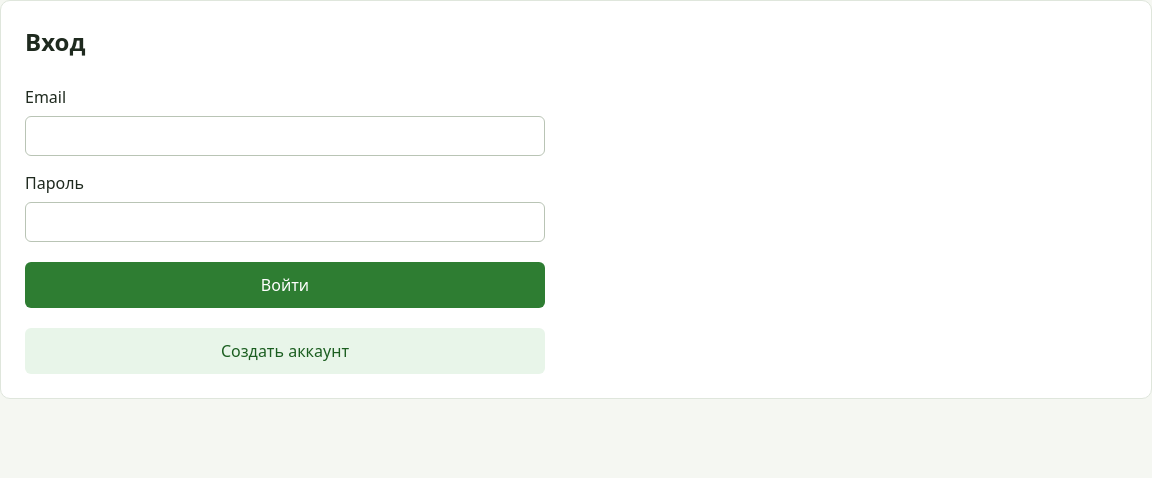
Test: 429 отображает сообщение сервера при входе
Type "test@example.test" into the field labelled "Email" at (285, 136), box [25,116,545,156]
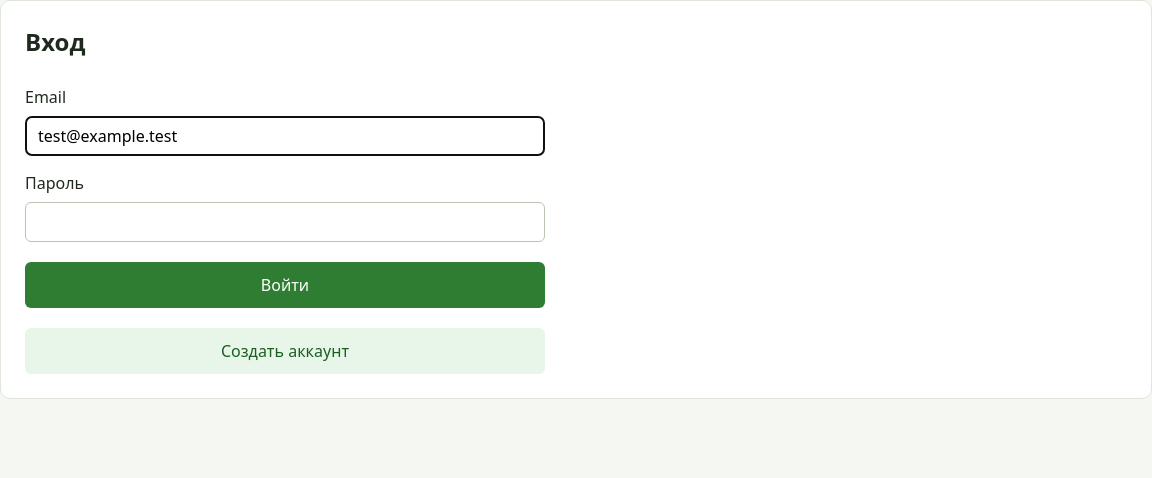
Type "Password123" into the password field labelled "Пароль" at (285, 222), box [25,202,545,242]
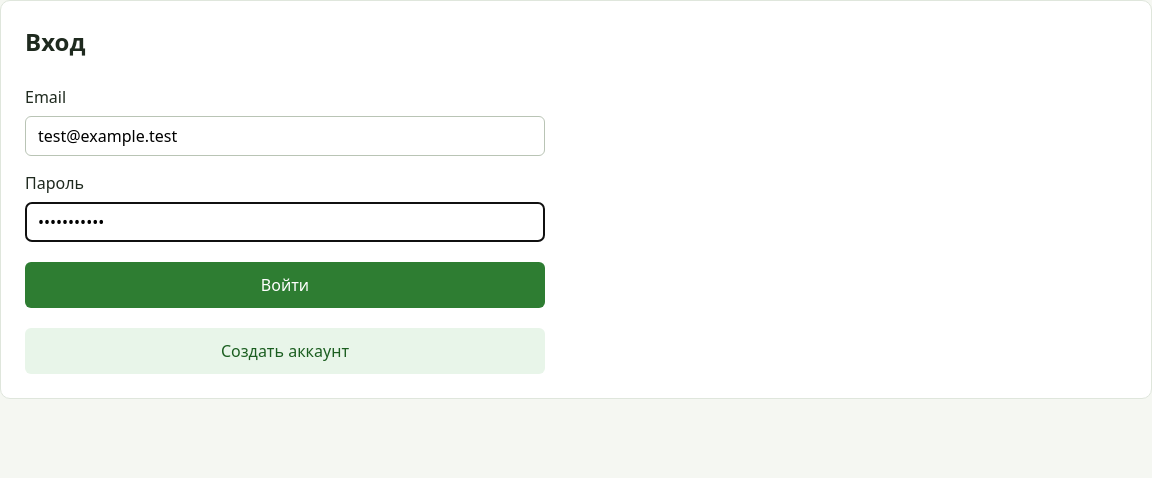
Click the button "Войти" at (285, 285), box [25,262,545,308]
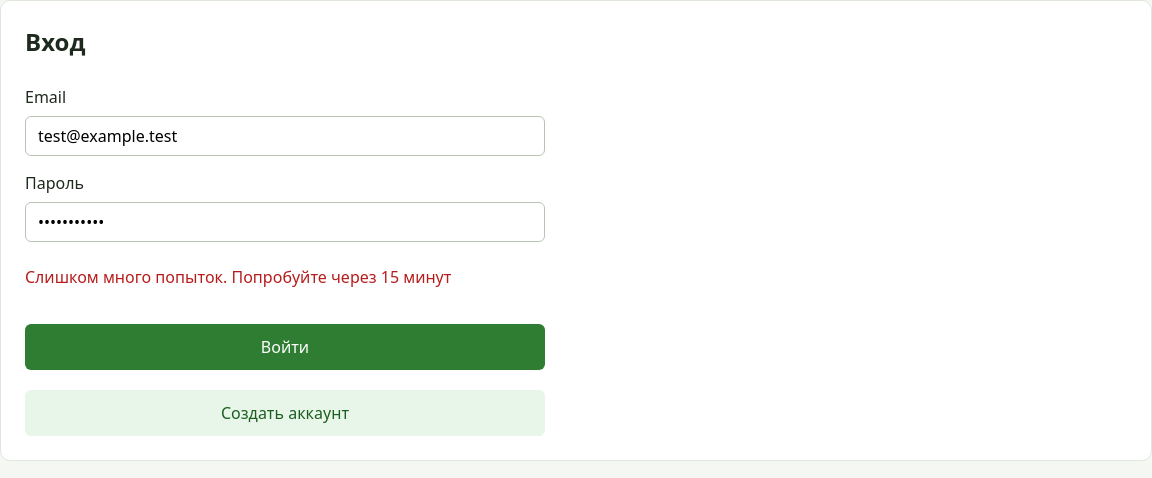
Expected: the message reads "Слишком много попыток. Попробуйте через 15 минут", [25,266,451,288]
